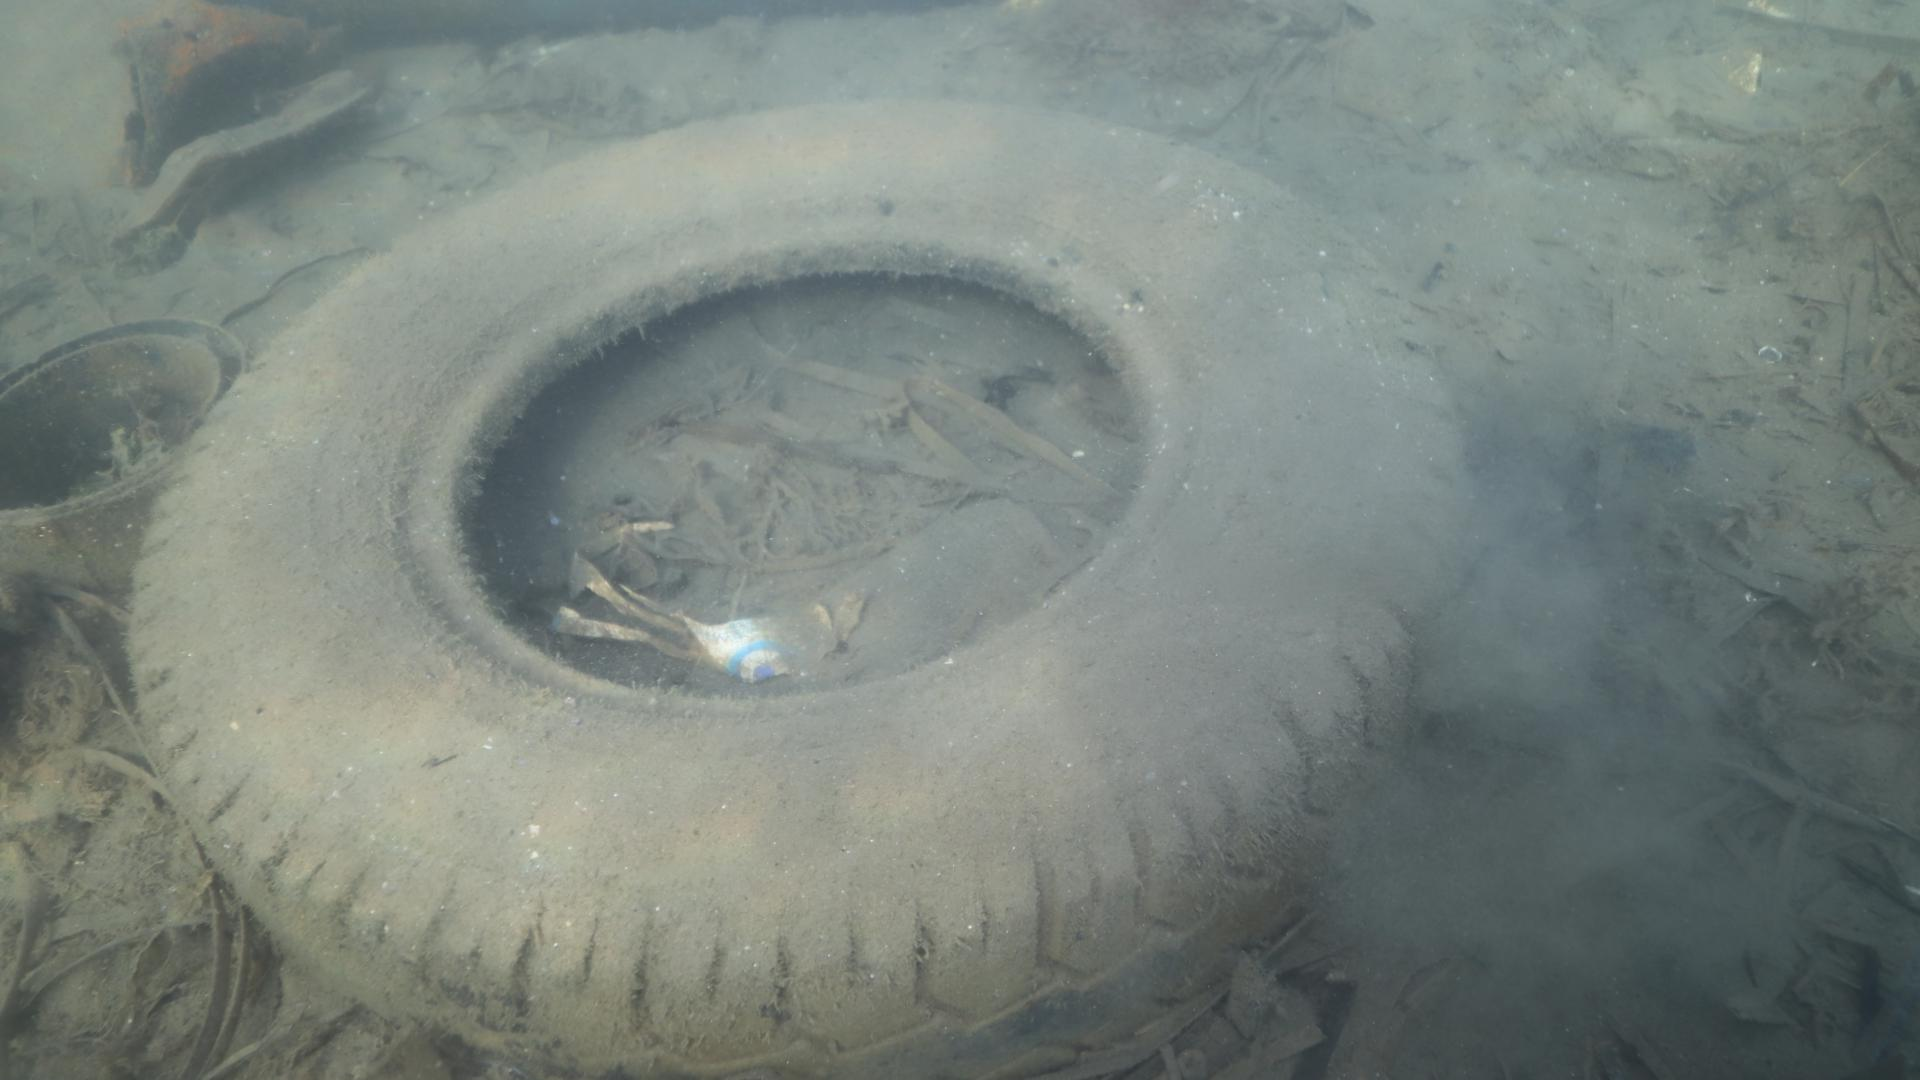tire: (117, 91, 1476, 1077)
